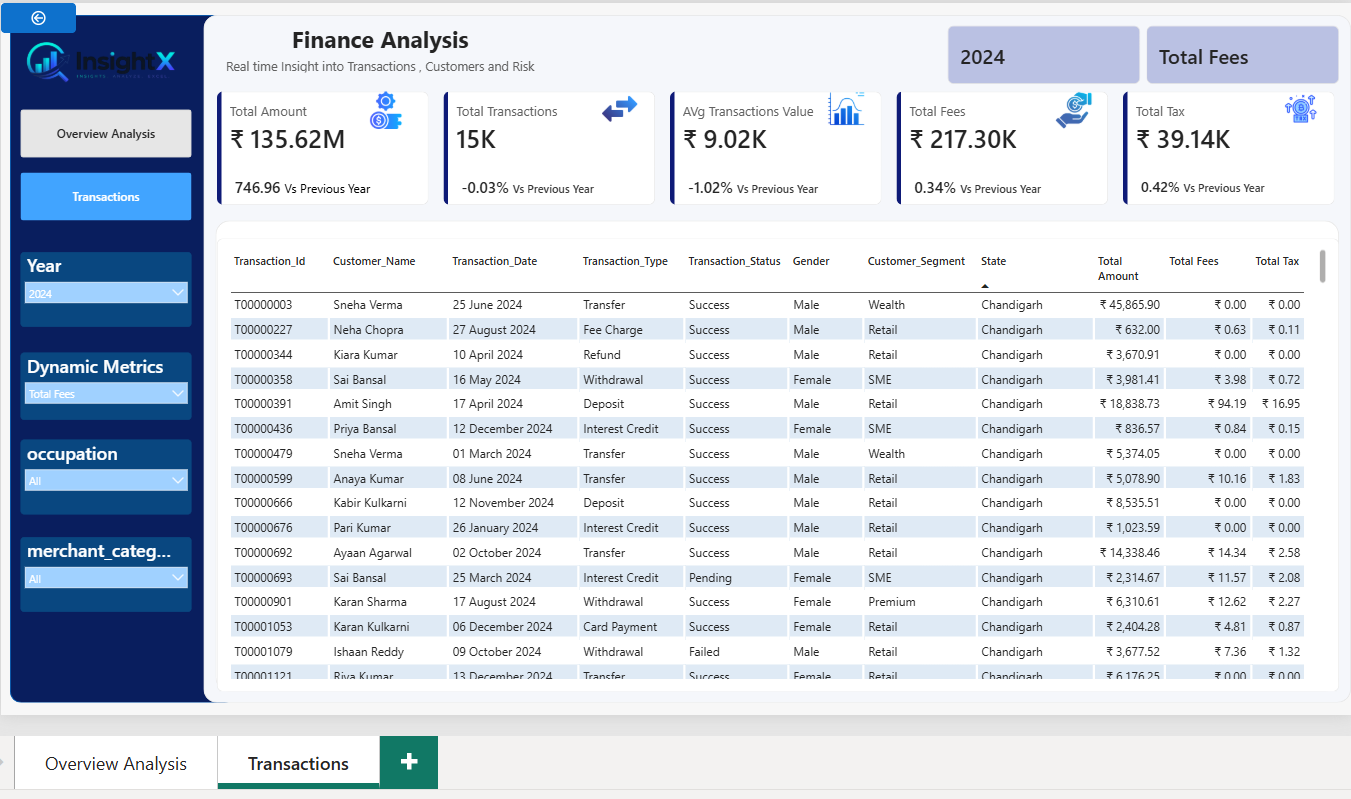

Layout of this report page (visuals, bound fields, positions):
{"tool":"powerbi","page":{"name":"Transactions","canvas":[1800,950],"ordinal":1},"visuals":[{"type":"shape","box":[11.1,15.5,301.2,917],"z":0},{"type":"shape","box":[270.2,15.5,1530,917],"z":1000},{"type":"image","box":[0,0,270.7,176.3],"z":2000},{"type":"card","fields":{"Values":["finance_transactions.Dashboard Title"]},"box":[287.5,14.7,451.2,94.4],"z":3000},{"type":"cardVisual","fields":{"Data":["finance_transactions.Total Amount","finance_transactions.Total Transactions","finance_transactions.AVg Transactions Value","finance_transactions.Total Fees","finance_transactions.Tax Amount"]},"box":[286.6,116.9,1497.2,155],"z":4000},{"type":"image","box":[488,118,50,50],"z":6000},{"type":"image","box":[800,116,50,50],"z":7000},{"type":"image","box":[1102,116,50,50],"z":8000},{"type":"image","box":[1402,118,56,50],"z":9000},{"type":"image","box":[1708,116,50,50],"z":10000},{"type":"shape","box":[286,290,1498,628],"z":12000},{"type":"cardVisual","fields":{"Data":["finance_transactions.Selected Year","finance_transactions.Selected Dynamic Measure"]},"box":[1262,30,522,78],"z":13000},{"type":"tableEx","fields":{"Values":["finance_transactions.transaction_id","customers.Customer_Name","finance_transactions.transaction_date","finance_transactions.transaction_type","finance_transactions.transaction_status","customers.gender","customers.customer_segment","customers.state","finance_transactions.Total Amount","finance_transactions.Total Fees","finance_transactions.Total Tax"]},"box":[288,314,1496,604],"z":14000},{"type":"actionButton","box":[0,0,100,40],"z":15000},{"type":"slicer","fields":{"Values":["Calendar Table.Year"]},"box":[26,332,228,100],"z":15001},{"type":"slicer","fields":{"Values":["Dynamic Metrics.Dynamic Metrics"]},"box":[26,466,228,90],"z":15002},{"type":"slicer","fields":{"Values":["customers.occupation"]},"box":[26,582,228,100],"z":15003},{"type":"slicer","fields":{"Values":["finance_transactions.merchant_category"]},"box":[26,712,228,100],"z":15004},{"type":"pageNavigator","box":[26,142,228,148],"z":15005}]}

Visuals, with their boxes on the page's 1800x950 design canvas (x1, y1, x2, y2). These are canvas units, not pixel positions in the 1351x799 screenshot, which may show the page scaled, cropped or inside an application window:
shape: pyautogui.locateOnScreen(11, 16, 312, 932)
shape: pyautogui.locateOnScreen(270, 16, 1800, 932)
image: pyautogui.locateOnScreen(0, 0, 271, 176)
card - finance_transactions.Dashboard Title: pyautogui.locateOnScreen(288, 15, 739, 109)
cardVisual - finance_transactions.Total Amount x finance_transactions.Total Transactions: pyautogui.locateOnScreen(287, 117, 1784, 272)
image: pyautogui.locateOnScreen(488, 118, 538, 168)
image: pyautogui.locateOnScreen(800, 116, 850, 166)
image: pyautogui.locateOnScreen(1102, 116, 1152, 166)
image: pyautogui.locateOnScreen(1402, 118, 1458, 168)
image: pyautogui.locateOnScreen(1708, 116, 1758, 166)
shape: pyautogui.locateOnScreen(286, 290, 1784, 918)
cardVisual - finance_transactions.Selected Year x finance_transactions.Selected Dynamic Measure: pyautogui.locateOnScreen(1262, 30, 1784, 108)
tableEx - finance_transactions.transaction_id x customers.Customer_Name: pyautogui.locateOnScreen(288, 314, 1784, 918)
actionButton: pyautogui.locateOnScreen(0, 0, 100, 40)
slicer - Calendar Table.Year: pyautogui.locateOnScreen(26, 332, 254, 432)
slicer - Dynamic Metrics.Dynamic Metrics: pyautogui.locateOnScreen(26, 466, 254, 556)
slicer - customers.occupation: pyautogui.locateOnScreen(26, 582, 254, 682)
slicer - finance_transactions.merchant_category: pyautogui.locateOnScreen(26, 712, 254, 812)
pageNavigator: pyautogui.locateOnScreen(26, 142, 254, 290)
